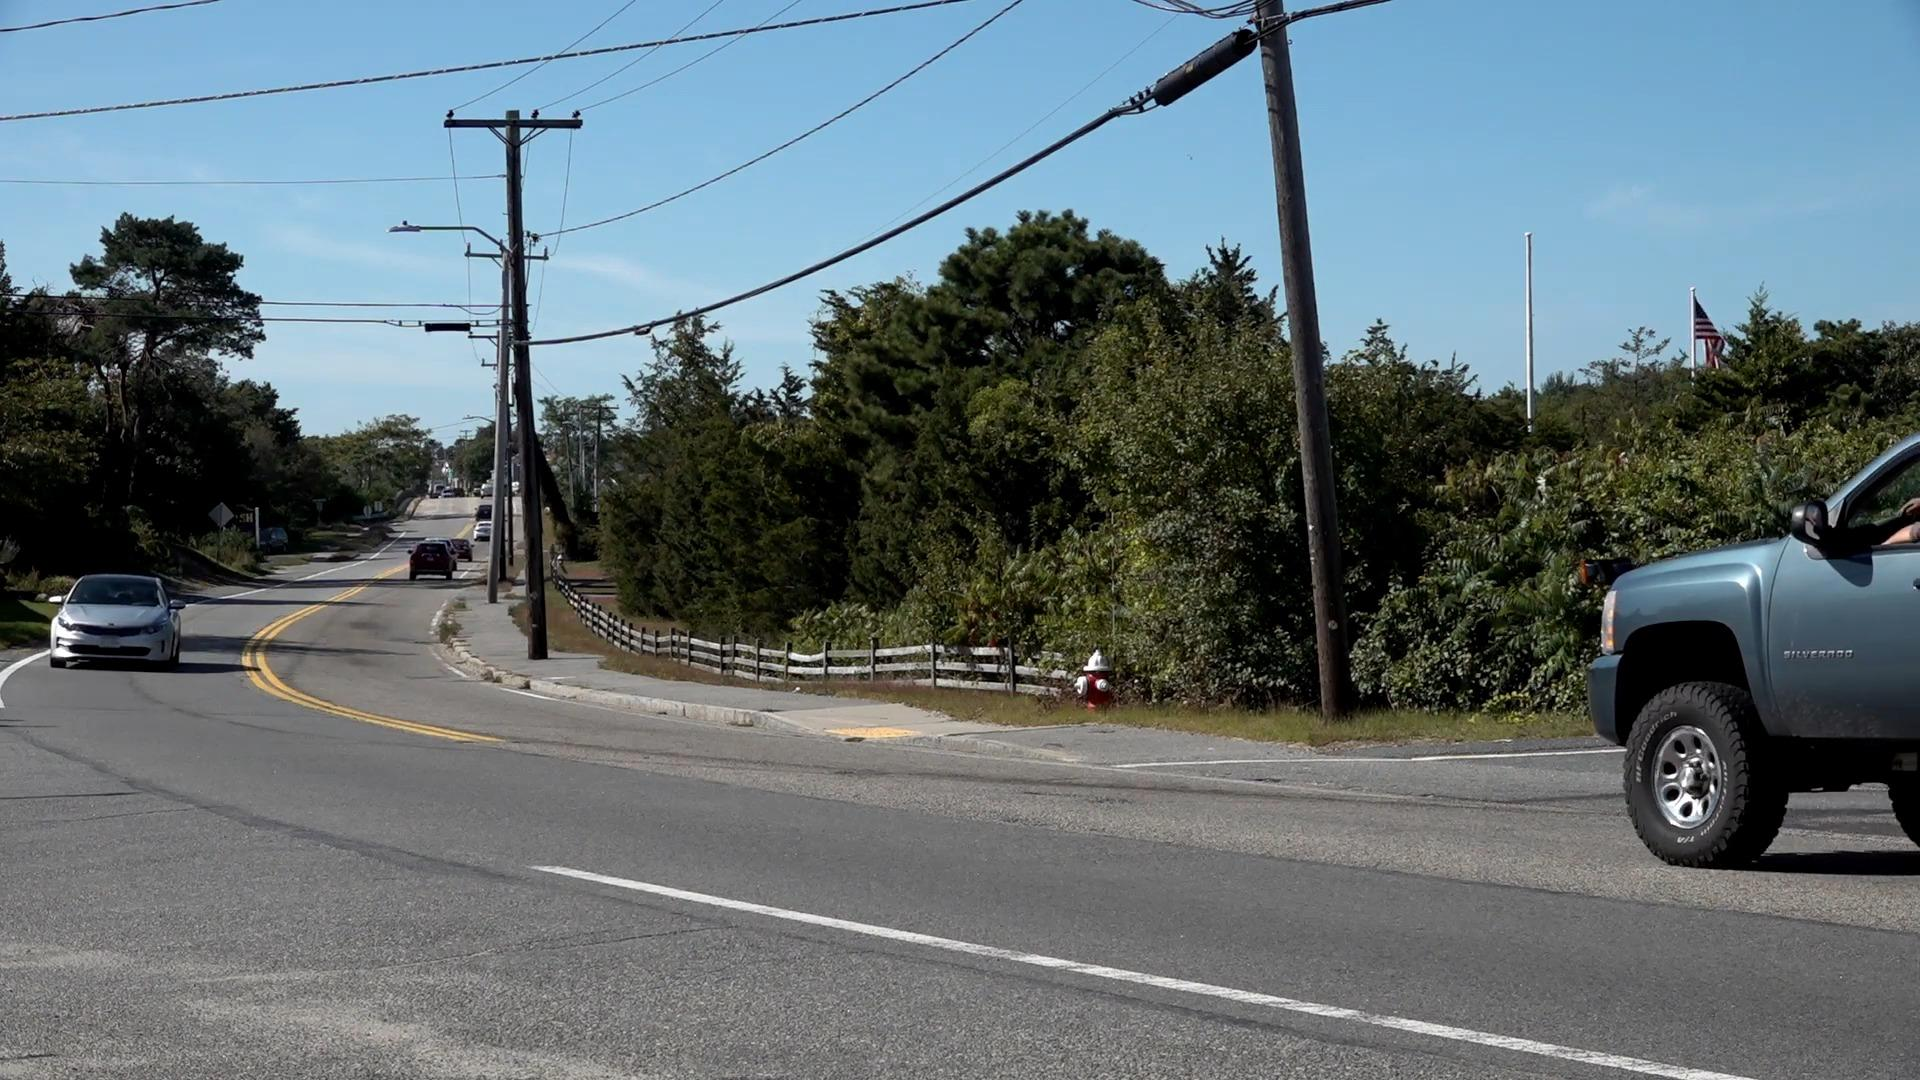pickup: (1584, 430, 1920, 869)
sedans: (50, 574, 187, 674)
